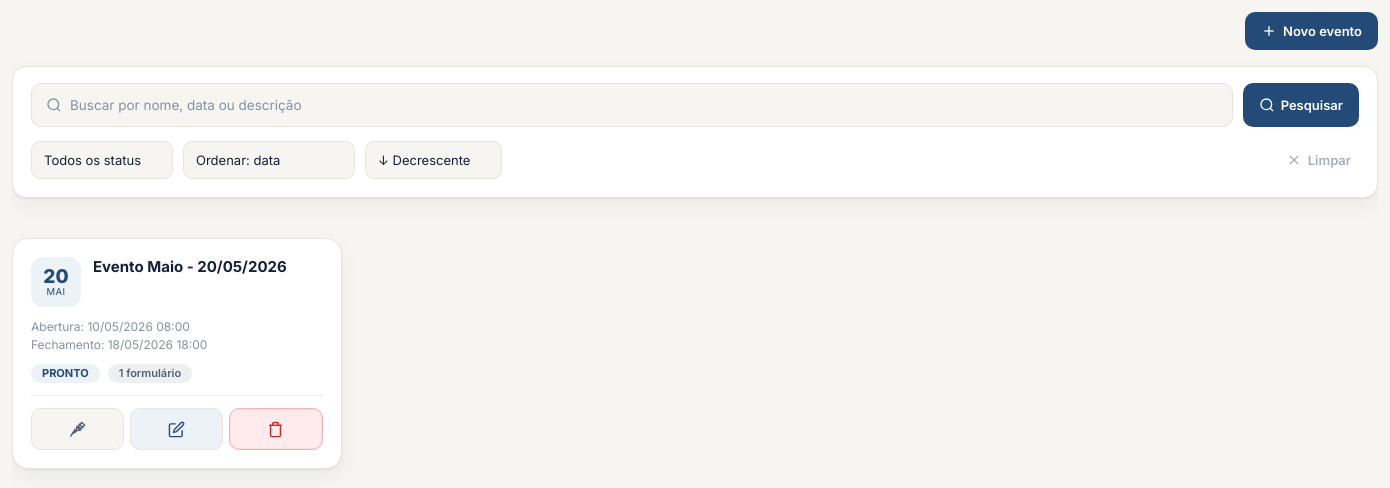
EventsScreen › abre o evento e lista apenas os formularios vinculados
Expected: the field with placeholder "Buscar por nome, data ou descrição" is shown, x1=70 y1=84 x2=1218 y2=126
What coordinates should you click on to do the following:
click the text "Evento Maio - 20/05/2026"
I would click on:
 (190, 266)
Its box is x1=93 y1=257 x2=287 y2=276.
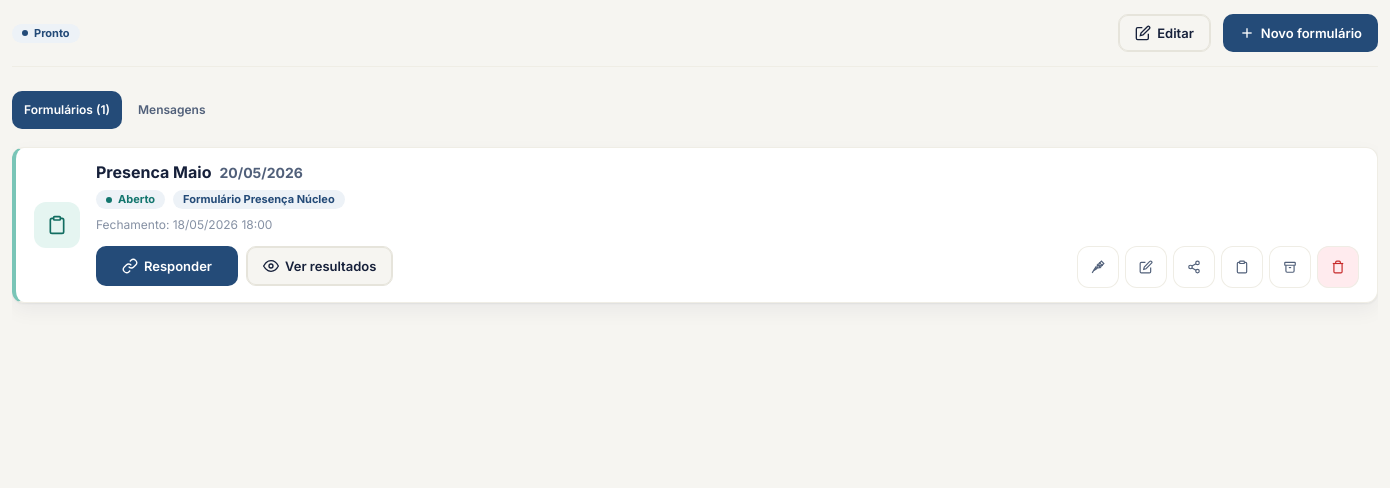
Now the text "Presenca Maio" is shown, box x1=96 y1=162 x2=212 y2=182
Now the picture named "Formulário de presença" is shown, box x1=34 y1=202 x2=80 y2=248
